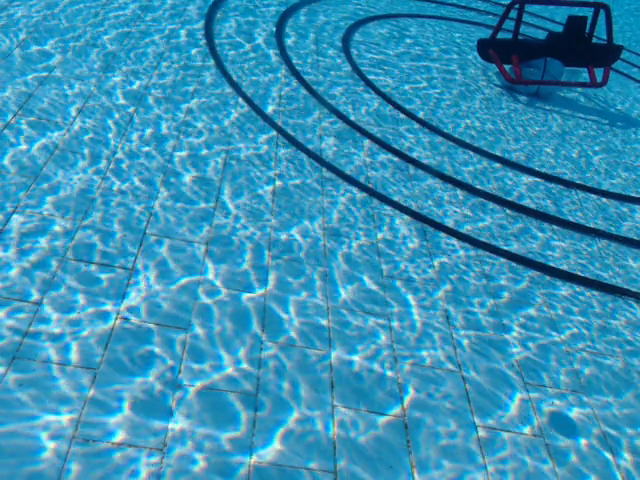submarine: (476, 1, 626, 90)
